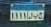1: (22, 12, 27, 19), (19, 11, 22, 19), (15, 11, 18, 18), (11, 12, 14, 19)
baa: (33, 14, 38, 19)
laam: (28, 12, 33, 20), (39, 12, 42, 19)
